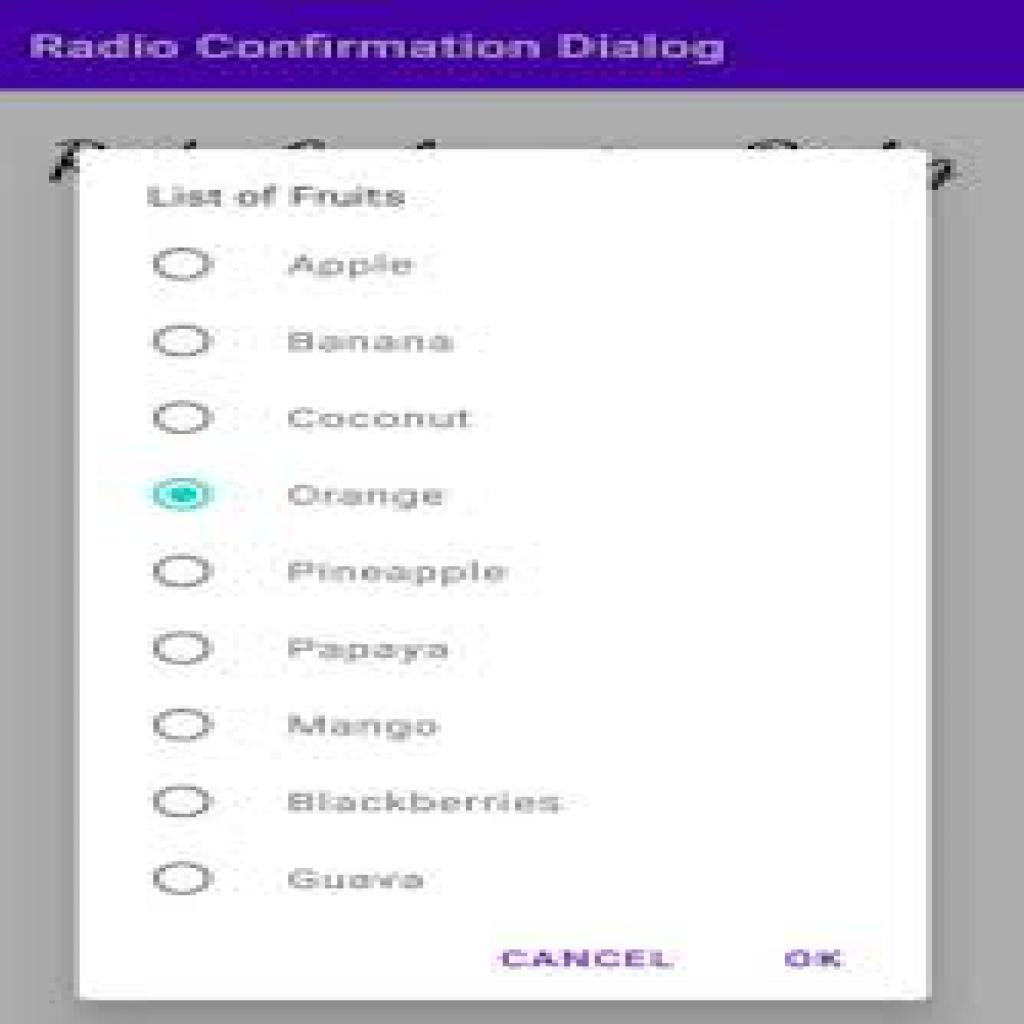radio: (145, 777, 228, 830), (147, 547, 222, 602), (147, 852, 219, 905), (149, 398, 231, 444), (149, 624, 219, 676), (144, 701, 220, 747), (147, 319, 224, 363), (149, 245, 228, 287), (147, 470, 219, 514)
